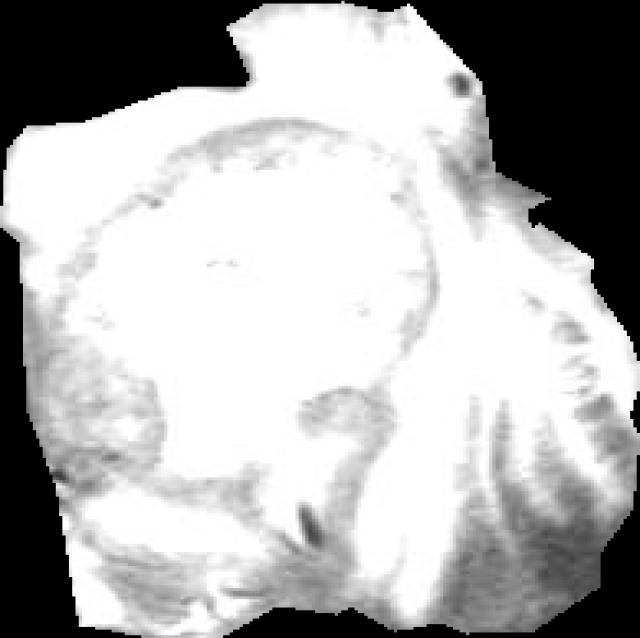tumor_less_chance: (0, 1, 640, 638)
